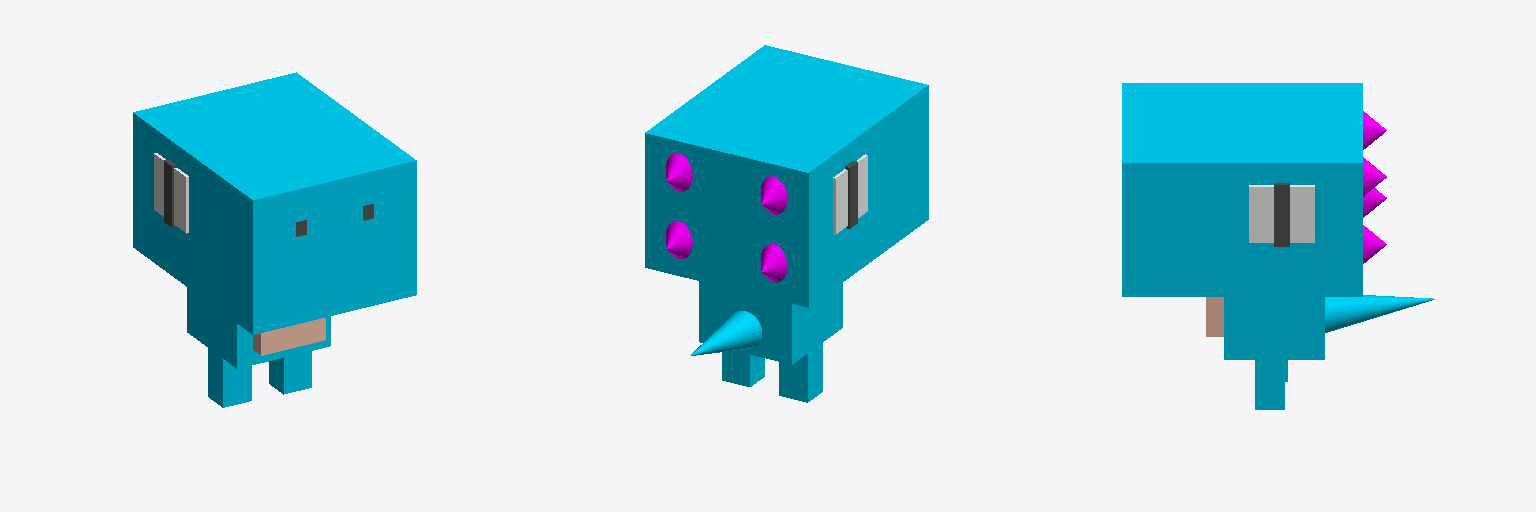
The picture shows the model from 3 angles: view 1: azimuth 30°, elevation 25°; view 2: azimuth 150°, elevation 25°; view 3: azimuth 270°, elevation 25°; orthographic projection.
Visible parts, largest first — view 1: bule_01:Mesh; view 2: bule_01:Mesh; view 3: bule_01:Mesh.
Boxes of the visible parts, x1=… form: bule_01:Mesh: x1=133, y1=72, x2=416, y2=407; bule_01:Mesh: x1=645, y1=45, x2=928, y2=402; bule_01:Mesh: x1=1122, y1=83, x2=1434, y2=409.
Bounding box in the file's own units: 2.97 × 4.35 × 4.67.
Materials: 1 (1 with a texture image).